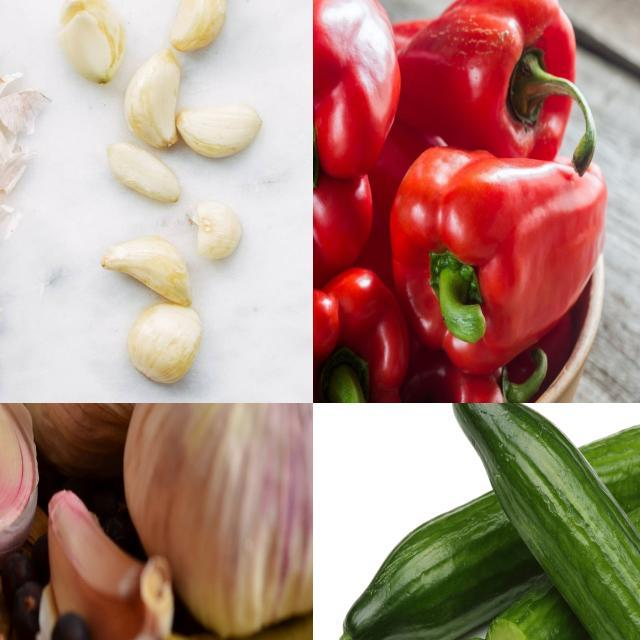bell_pepper: (392, 145, 606, 365), (408, 1, 602, 176), (314, 1, 403, 286), (314, 270, 403, 404)
cucumber: (338, 413, 640, 640), (448, 404, 640, 640), (485, 495, 640, 640)
garlic: (122, 404, 314, 624), (26, 404, 255, 463), (100, 236, 204, 308), (128, 298, 204, 388), (61, 1, 132, 87), (176, 106, 272, 162), (109, 142, 182, 208), (134, 55, 184, 150), (187, 201, 247, 264), (172, 1, 228, 58)
